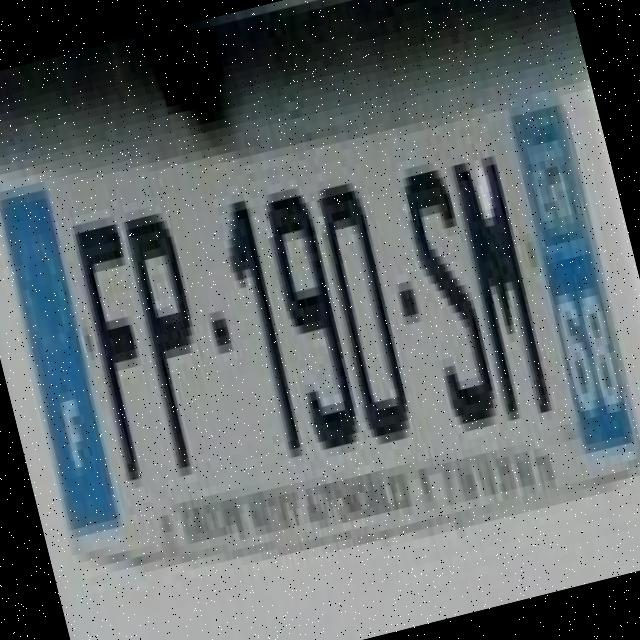EU: (0, 93, 640, 553)
France: (0, 185, 123, 536)
